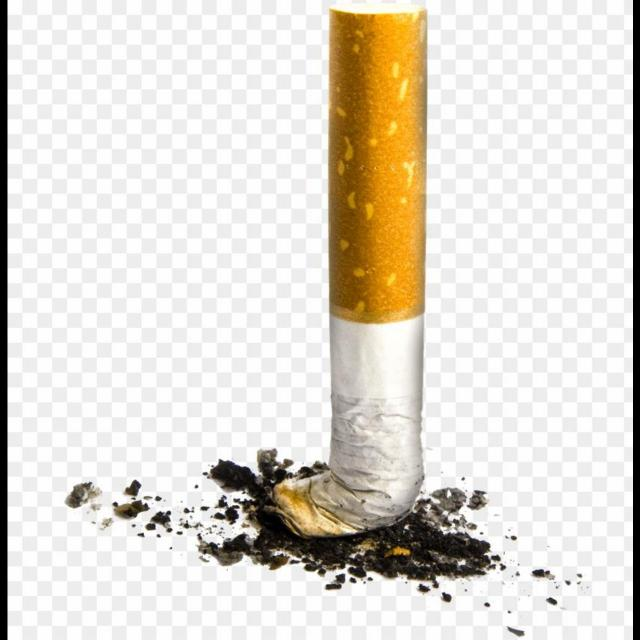cigarette: (274, 9, 426, 539)
